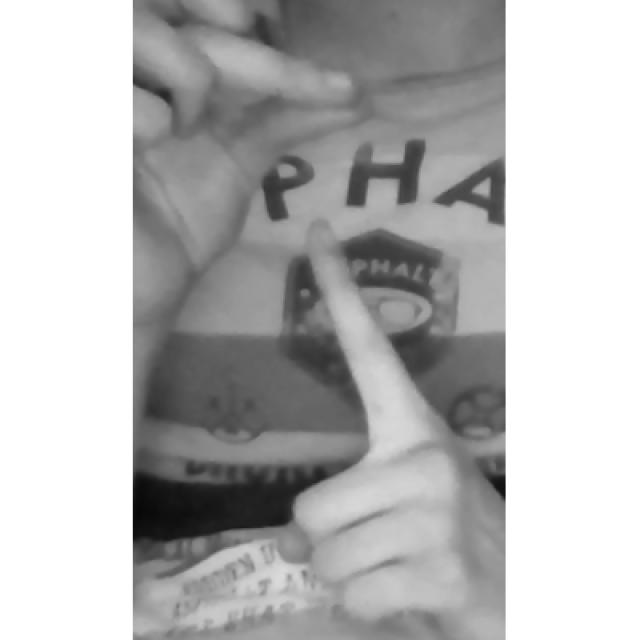I-: (133, 1, 503, 640)
